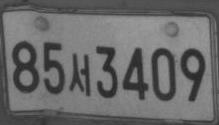0: (150, 46, 177, 101)
3: (94, 45, 119, 98)
4: (122, 46, 149, 101)
5: (42, 41, 65, 94)
8: (10, 39, 40, 93)
9: (179, 47, 206, 102)
서: (68, 52, 91, 96)
